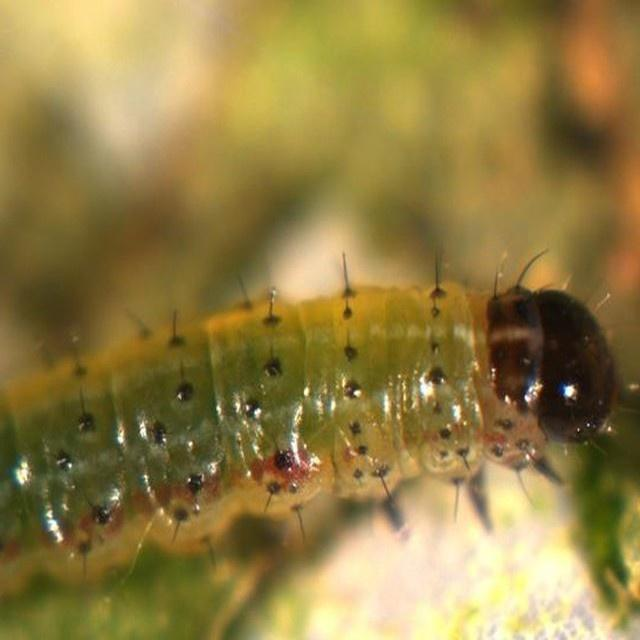gusano_cogollero: (0, 254, 640, 596)
